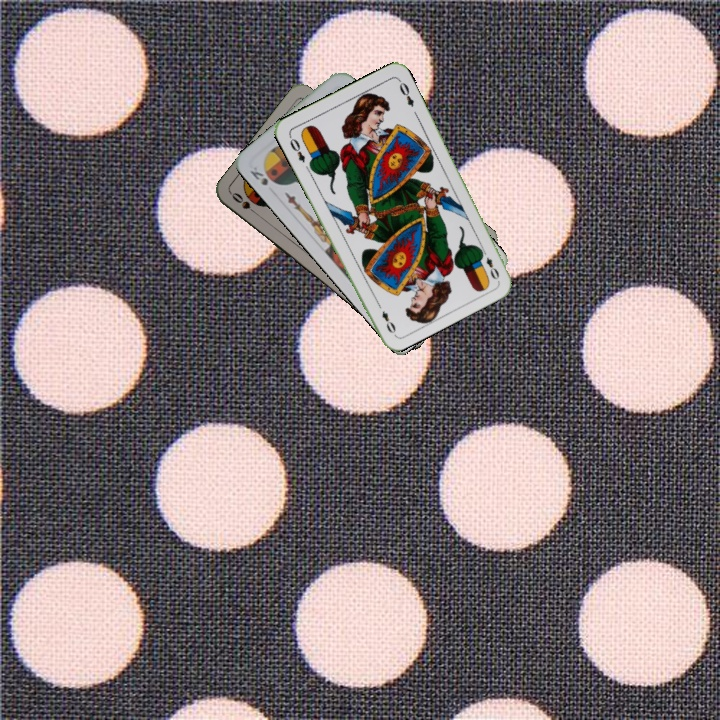EO: (477, 245, 502, 282), (285, 132, 308, 165)
SK: (246, 162, 271, 188)
SO: (227, 188, 262, 219)
